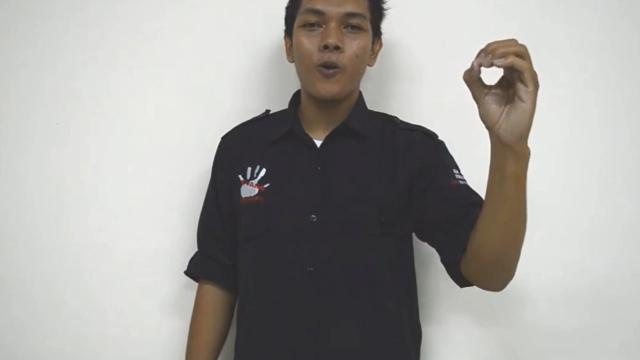O: (460, 33, 542, 149)
